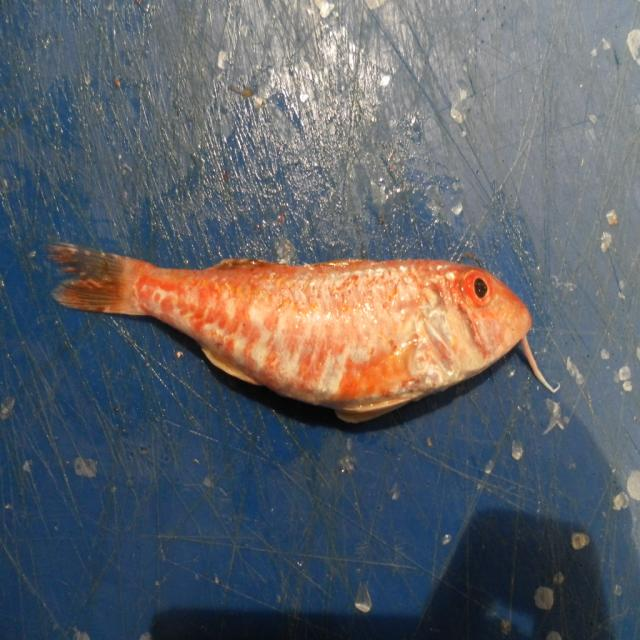Red-Mullet-kefal-: (49, 243, 534, 424)
